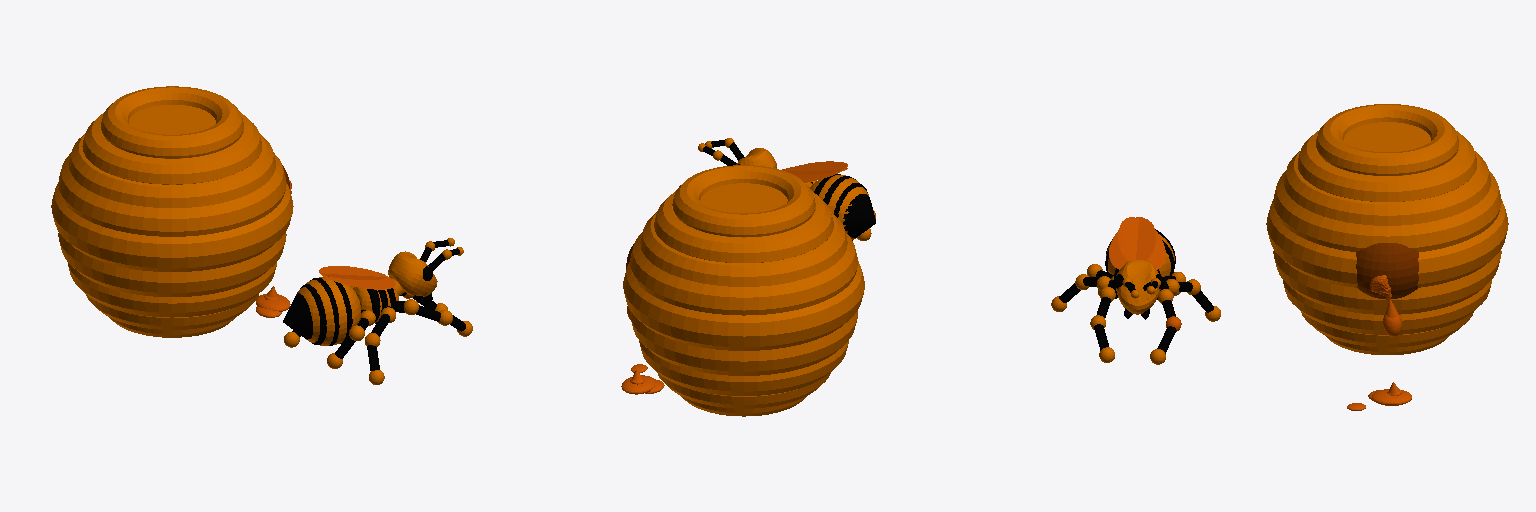
Rendered from afrikanische_weisheit.obj.
3 renders of one model, left to right at view 1: azimuth 30°, elevation 25°; view 2: azimuth 150°, elevation 25°; view 3: azimuth 270°, elevation 25°, orthographic.
Visible parts, largest first — view 1: Torus.004, Torus.006, Torus.008_Torus.011, Torus.005, Torus.007_Torus.010, Torus.003, Torus.002, Cylinder, Sphere.009_Sphere.019, Torus.001, Sphere.061_Sphere, Sphere.007_Sphere.005 (+2 smaller); view 2: Torus.004, Torus.006, Torus.008_Torus.011, Torus.005, Torus.007_Torus.010, Torus.003, Torus.002, Cylinder, Torus.001, Cone.002, Sphere.009_Sphere.019, Torus (+1 smaller); view 3: Torus.006, Torus.004, Torus.008_Torus.011, Torus.005, Torus.007_Torus.010, Torus.003, Torus.002, Sphere_Sphere.001, Cylinder, Torus.001, Sphere.061_Sphere, Sphere.001_Sphere.008 (+2 smaller).
Part boxes in pixels (x1,y1,x2,y2): Torus.004: (51, 184, 293, 271); Torus.006: (58, 153, 286, 236); Torus.008_Torus.011: (101, 86, 243, 158); Torus.005: (69, 134, 275, 207); Torus.007_Torus.010: (82, 112, 261, 184); Torus.003: (58, 233, 286, 296); Torus.002: (67, 261, 276, 317); Cylinder: (129, 105, 215, 134); Sphere.009_Sphere.019: (296, 277, 360, 345); Torus.001: (85, 293, 258, 329); Sphere.061_Sphere: (388, 251, 437, 296); Sphere.007_Sphere.005: (319, 266, 395, 289); Torus.004: (623, 261, 864, 350); Torus.006: (630, 232, 857, 315); Torus.008_Torus.011: (672, 165, 815, 236); Torus.005: (640, 212, 847, 286); Torus.007_Torus.010: (654, 191, 833, 262); Torus.003: (630, 311, 857, 375); Torus.002: (639, 341, 848, 395); Cylinder: (700, 183, 787, 212); Torus.001: (657, 372, 830, 408); Cone.002: (843, 194, 875, 237); Sphere.009_Sphere.019: (810, 175, 868, 239); Torus: (681, 396, 806, 416); Torus.006: (1273, 171, 1501, 251); Torus.004: (1266, 199, 1508, 287); Torus.008_Torus.011: (1316, 104, 1458, 175); Torus.005: (1284, 151, 1490, 225); Torus.007_Torus.010: (1298, 131, 1476, 201); Torus.003: (1273, 250, 1501, 314); Torus.002: (1283, 280, 1491, 334); Sphere_Sphere.001: (1356, 243, 1418, 299); Cylinder: (1344, 122, 1430, 151); Torus.001: (1301, 312, 1473, 347); Sphere.061_Sphere: (1116, 260, 1160, 314); Sphere.001_Sphere.008: (1118, 217, 1165, 269).
Bounding box in the file's own units: 5.56 × 4.43 × 8.17.